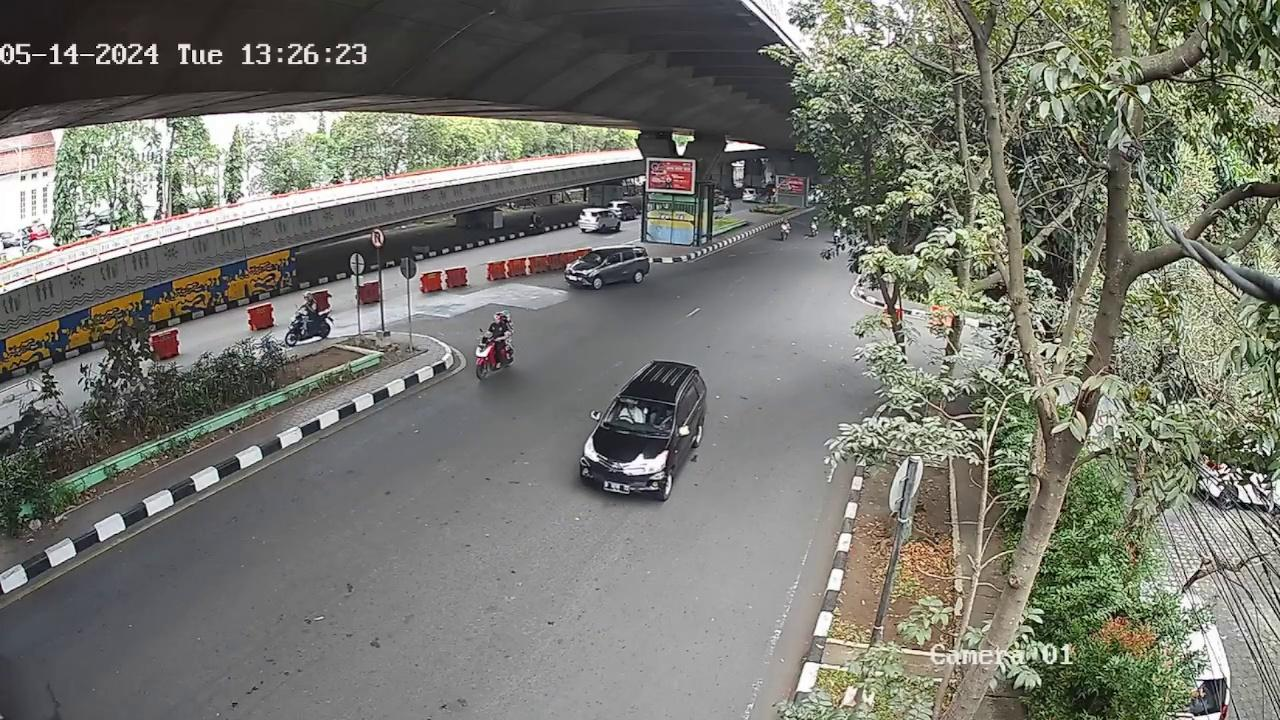pakai: (620, 404, 649, 427)
windshield: (602, 398, 677, 435)
